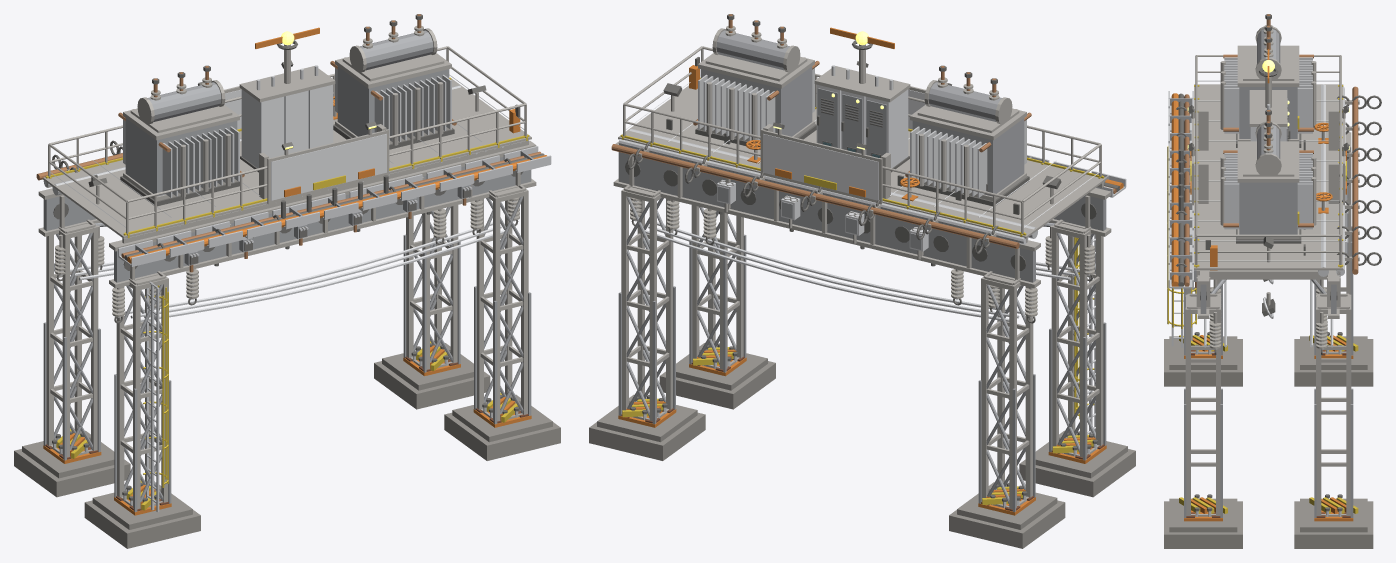
File: gantry_service.glb
3 views of the same model, side by side, from view 1: azimuth 30°, elevation 25°; view 2: azimuth 150°, elevation 25°; view 3: azimuth 270°, elevation 25° (orthographic). The views are drawn at different scales.
Parts seen in each view (by area): view 1: gantry_service; view 2: gantry_service; view 3: gantry_service.
Part boxes in pixels (x1,y1,x2,y2): gantry_service: [14, 14, 560, 548]; gantry_service: [589, 14, 1135, 548]; gantry_service: [1164, 14, 1381, 548].
Size of the model in its own units: 13.5 by 12.57 by 6.35.
